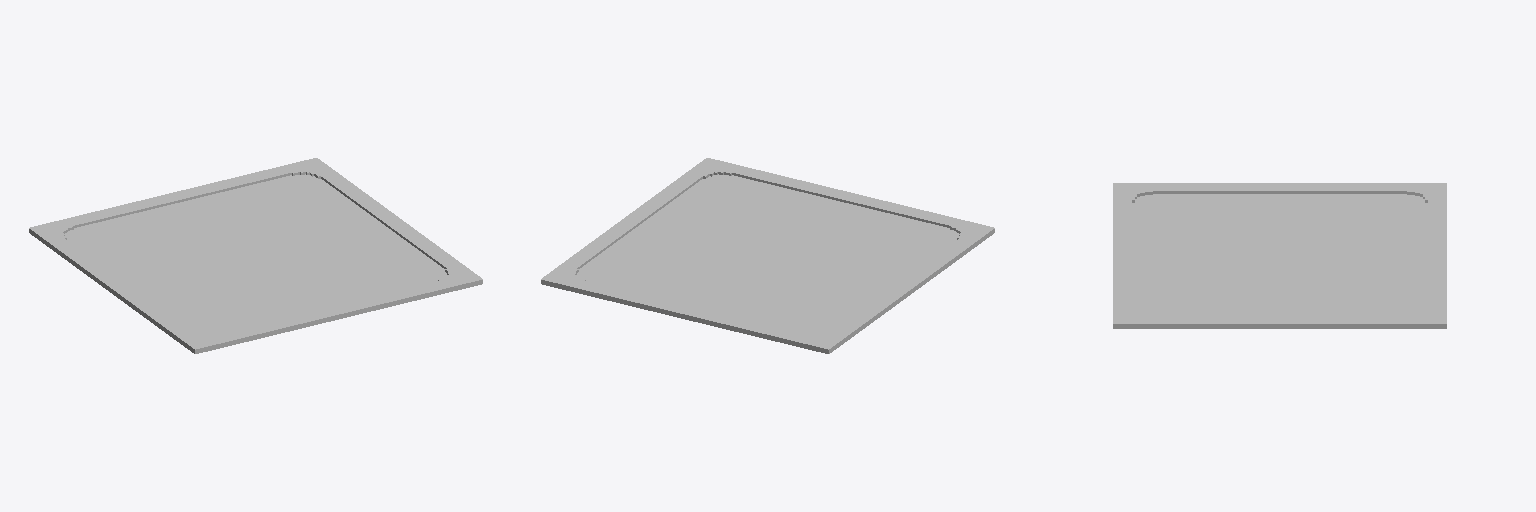
The model's file is Suelo.obj.
3 renders of one model, left to right at view 1: azimuth 30°, elevation 25°; view 2: azimuth 150°, elevation 25°; view 3: azimuth 270°, elevation 25°, orthographic.
Bounding box in the file's own units: 125 × 2 × 125.